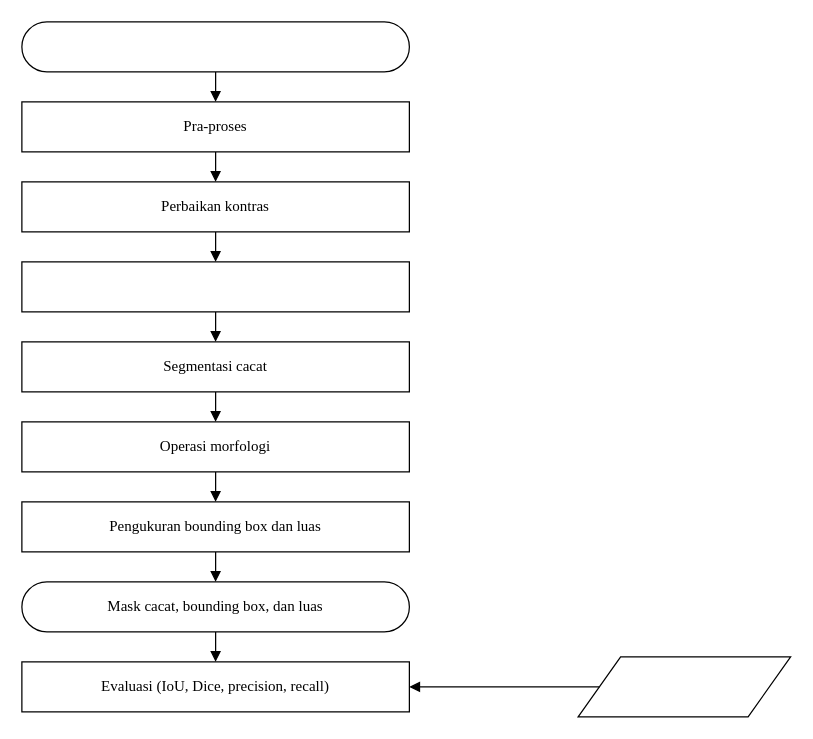
This 813x739 diagram has some shape labels left out. The shapes that lost their labels are listed below. From the top down, each one's centre as x and y in pixels, then its label:
At point 215,46: "Citra masukan".
At point 215,286: "Segmentasi daun".
At point 684,686: "Mask ground truth".
